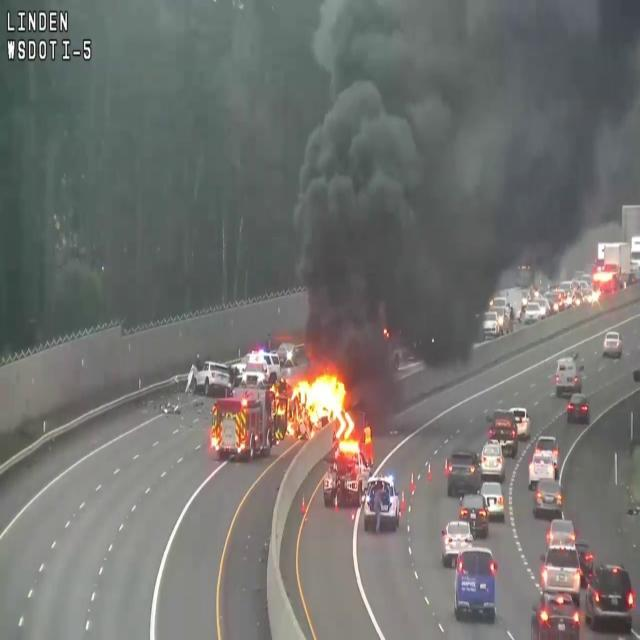Fire: (287, 363, 348, 431)
Smoke: (284, 0, 639, 330)
